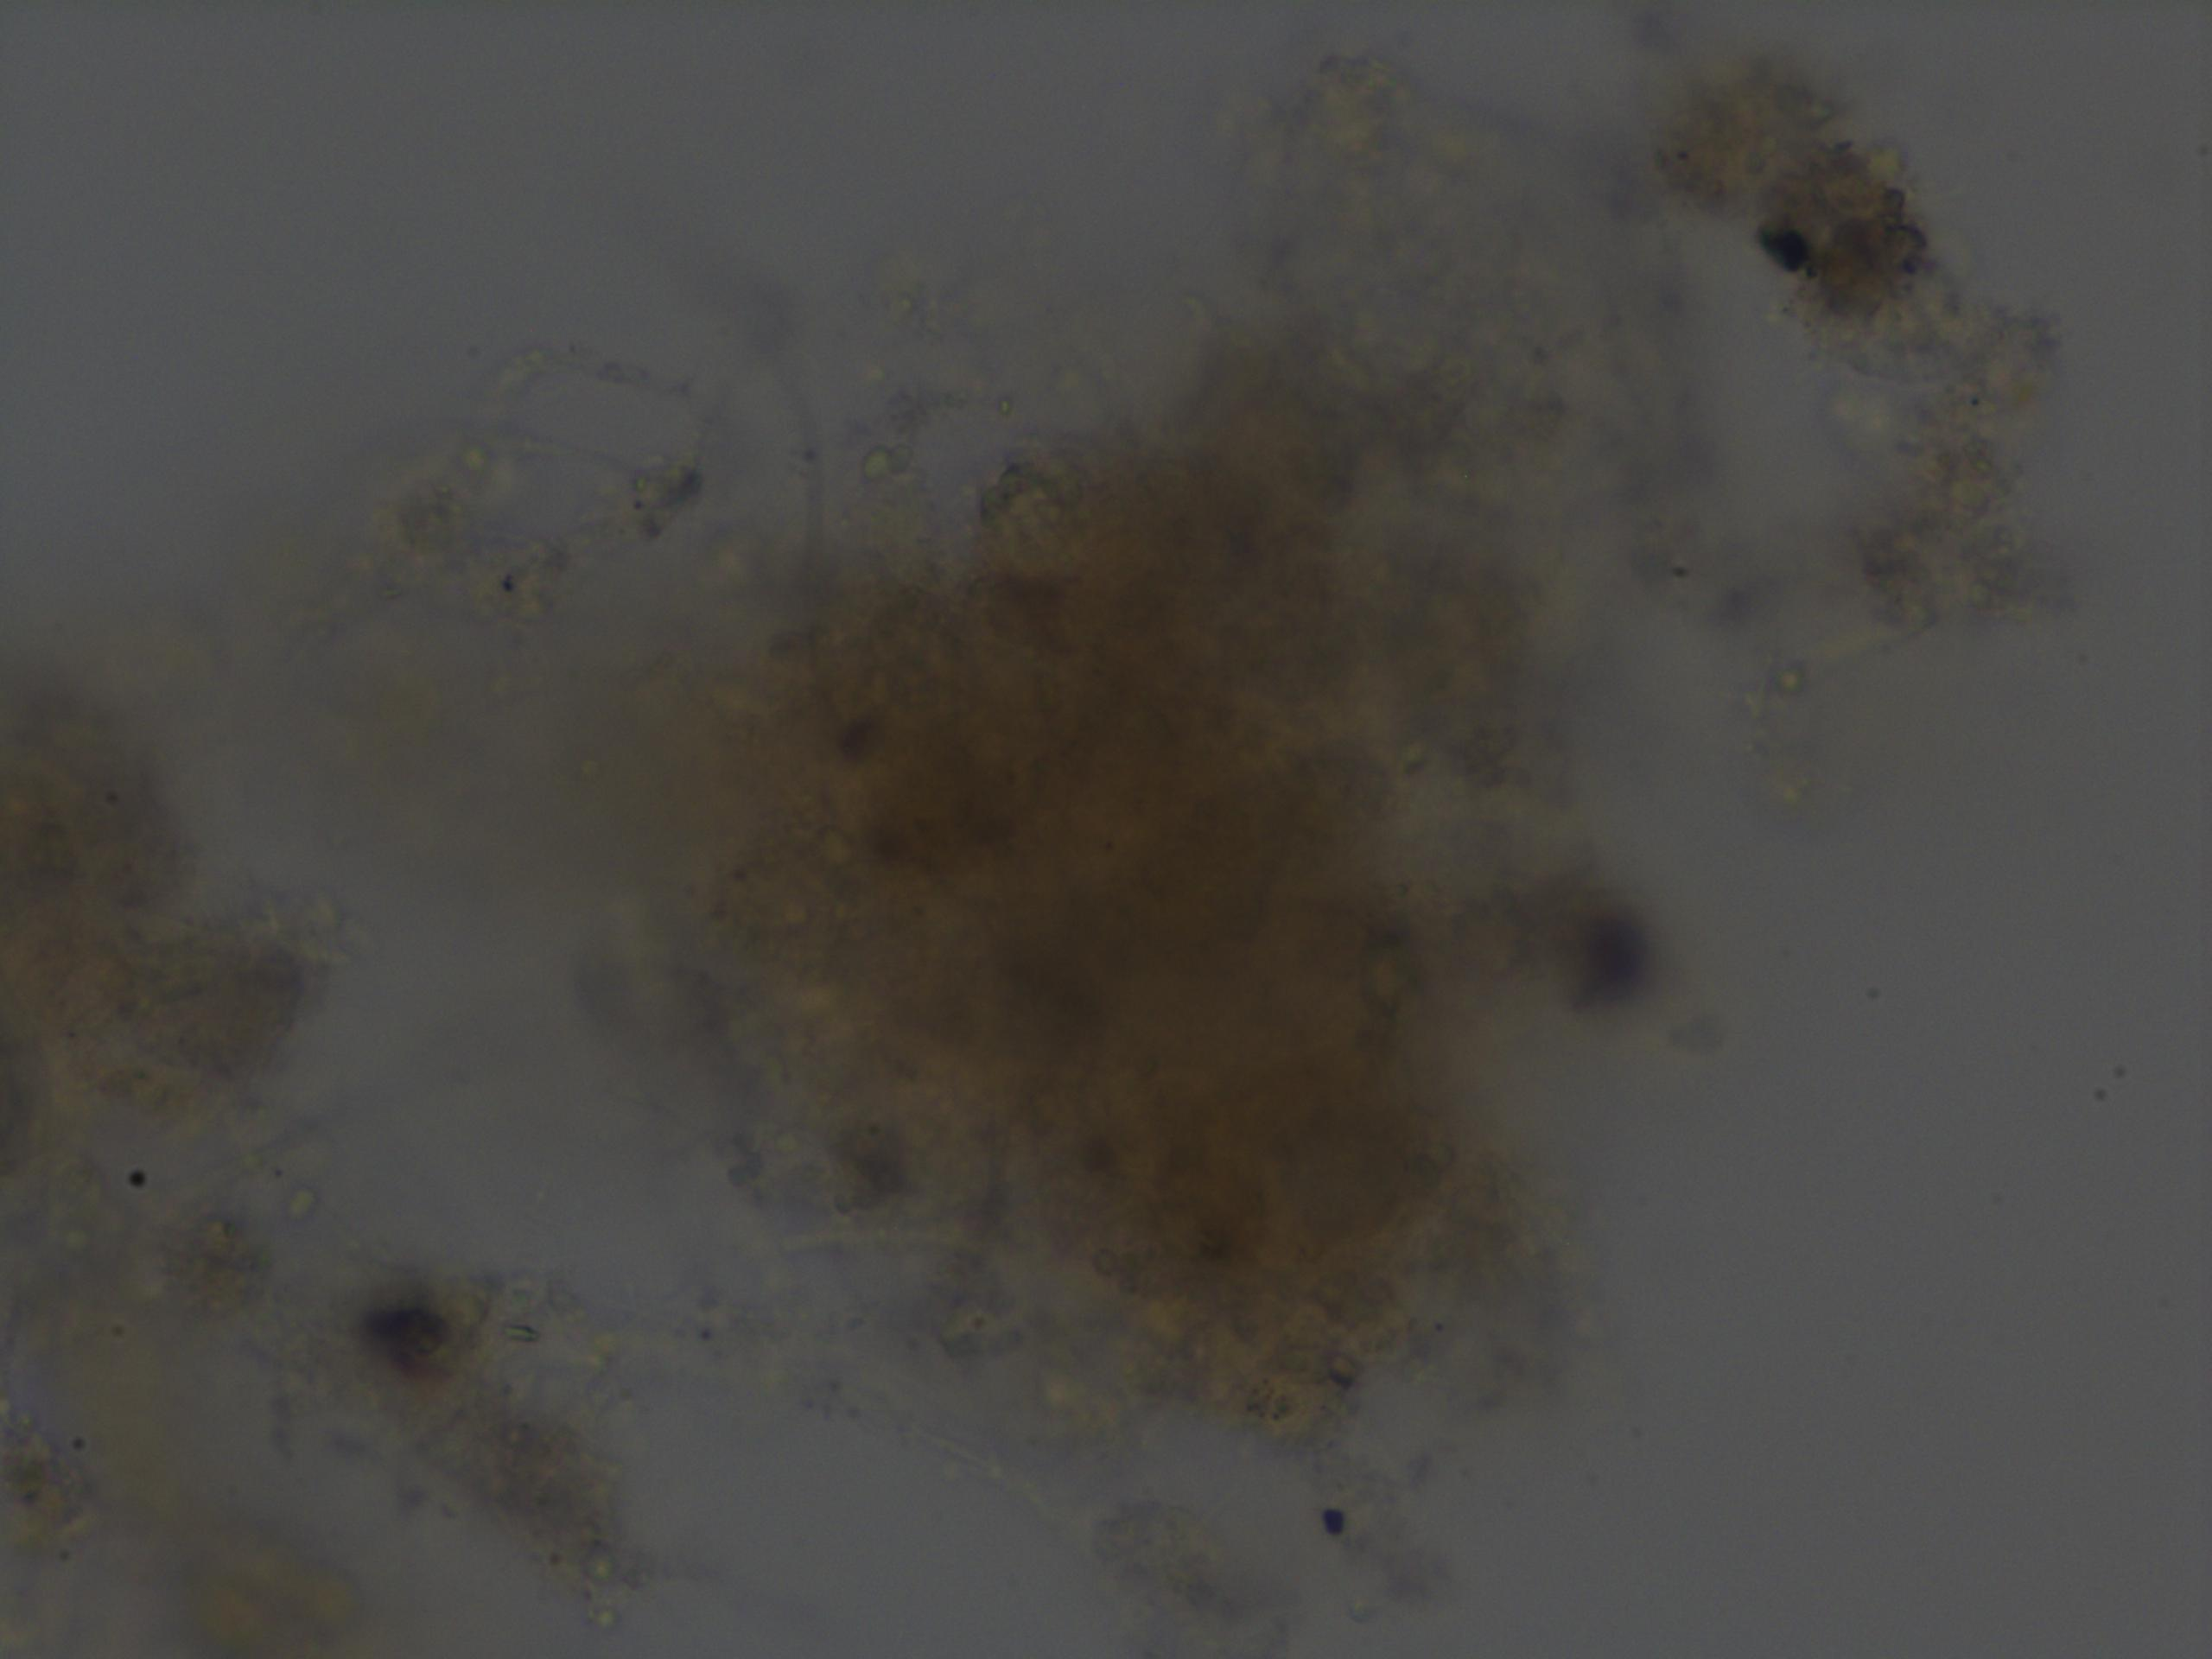filament: (561, 1305, 1106, 1603), (357, 307, 728, 606)
